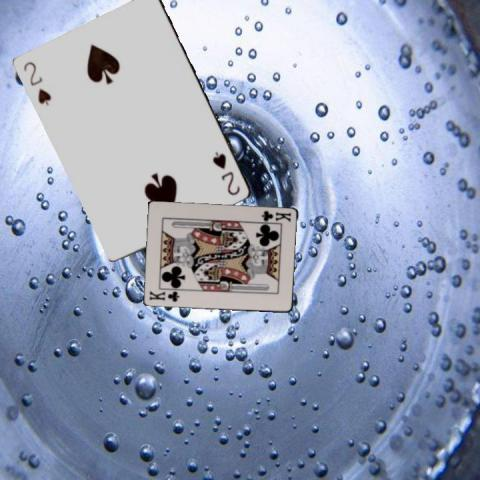2s: (21, 59, 53, 108), (211, 149, 242, 197)
Kc: (146, 288, 181, 303), (258, 208, 292, 223)
